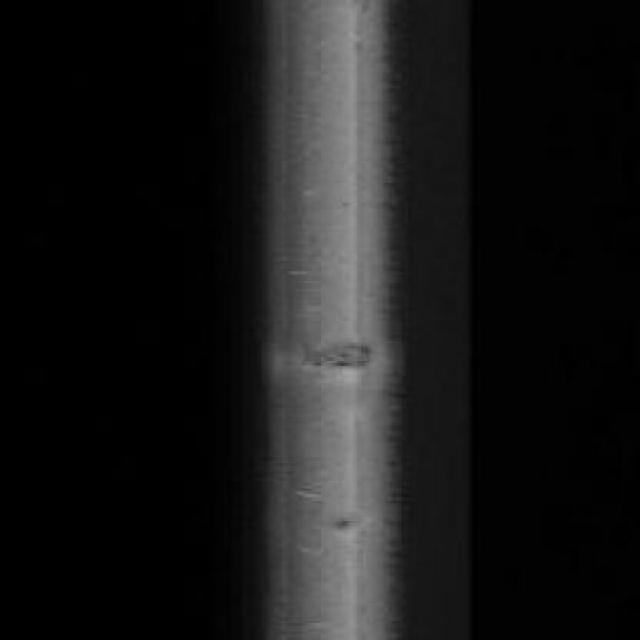non-defective: (210, 0, 501, 640)
